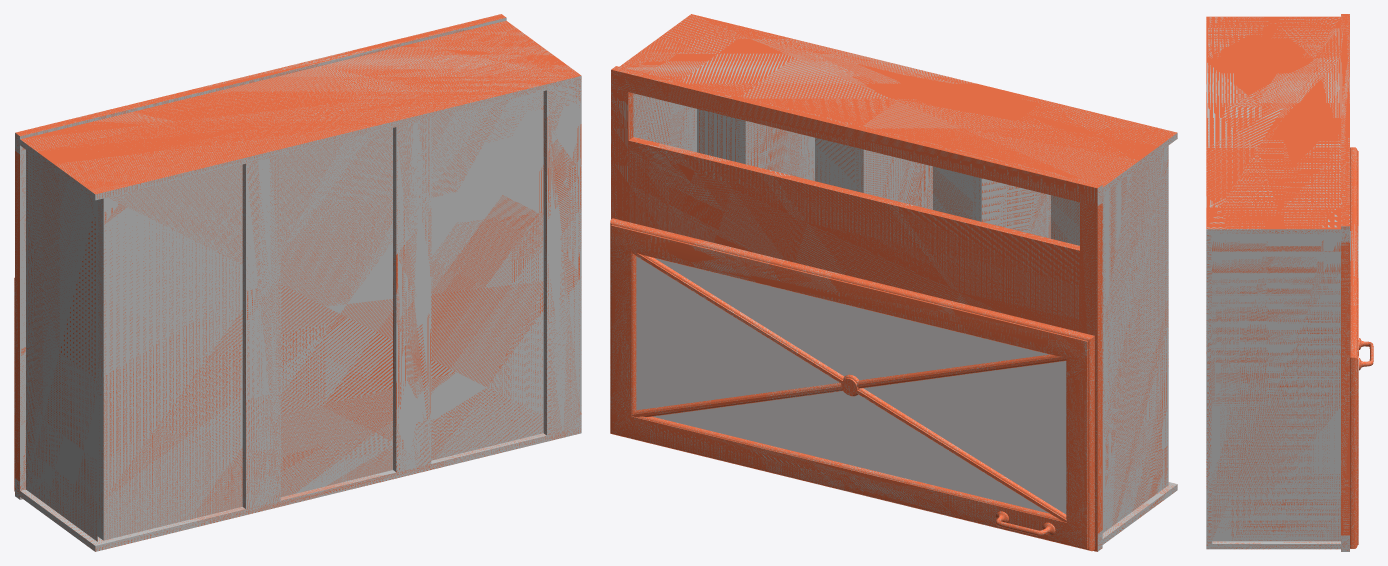
The picture shows the model from 3 angles, left to right: view 1: azimuth 30°, elevation 25°; view 2: azimuth 150°, elevation 25°; view 3: azimuth 270°, elevation 25°; orthographic projection. The views are drawn at different scales.
Visible parts, largest first — view 1: mesh6_mesh6-geometry, mesh3_mesh3-geometry, mesh8_mesh8-geometry, mesh1_mesh1-geometry, mesh7_mesh7-geometry, mesh9_mesh9-geometry, mesh4_mesh4-geometry, mesh2_mesh2-geometry; view 2: mesh48_mesh48-geometry, mesh11_mesh11-geometry, mesh8_mesh8-geometry, mesh1_mesh1-geometry, mesh20_mesh20-geometry, mesh9_mesh9-geometry, mesh19_mesh19-geometry, mesh12_mesh12-geometry, mesh4_mesh4-geometry, mesh5_mesh5-geometry, mesh46_mesh46-geometry, mesh47_mesh47-geometry (+7 smaller); view 3: mesh2_mesh2-geometry, mesh8_mesh8-geometry, mesh4_mesh4-geometry, mesh3_mesh3-geometry, mesh9_mesh9-geometry, mesh20_mesh20-geometry, mesh7_mesh7-geometry, mesh17_mesh17-geometry, mesh14_mesh14-geometry, mesh13_mesh13-geometry, mesh21_mesh21-geometry.
Boxes of the visible parts, x1,y1,x2,y2 form: mesh6_mesh6-geometry: (103, 91, 543, 540); mesh3_mesh3-geometry: (242, 82, 581, 508); mesh8_mesh8-geometry: (20, 20, 581, 200); mesh1_mesh1-geometry: (26, 150, 97, 541); mesh7_mesh7-geometry: (20, 427, 581, 551); mesh9_mesh9-geometry: (15, 14, 506, 154); mesh4_mesh4-geometry: (15, 151, 25, 481); mesh2_mesh2-geometry: (97, 198, 103, 540); mesh48_mesh48-geometry: (636, 256, 1066, 514); mesh11_mesh11-geometry: (628, 137, 1079, 331); mesh8_mesh8-geometry: (619, 14, 1177, 193); mesh1_mesh1-geometry: (633, 93, 1168, 532); mesh20_mesh20-geometry: (650, 228, 1052, 354); mesh9_mesh9-geometry: (611, 66, 1102, 206); mesh19_mesh19-geometry: (650, 417, 1050, 540); mesh12_mesh12-geometry: (737, 118, 1050, 238); mesh4_mesh4-geometry: (611, 88, 1102, 533); mesh5_mesh5-geometry: (697, 109, 1079, 245); mesh46_mesh46-geometry: (632, 252, 1066, 522); mesh47_mesh47-geometry: (632, 354, 1066, 417); mesh2_mesh2-geometry: (1212, 234, 1340, 541); mesh8_mesh8-geometry: (1206, 16, 1340, 234); mesh4_mesh4-geometry: (1341, 242, 1349, 535); mesh3_mesh3-geometry: (1206, 234, 1212, 543); mesh9_mesh9-geometry: (1341, 14, 1349, 242); mesh20_mesh20-geometry: (1350, 165, 1358, 341); mesh7_mesh7-geometry: (1206, 541, 1340, 549); mesh17_mesh17-geometry: (1350, 396, 1358, 509); mesh14_mesh14-geometry: (1350, 339, 1358, 396); mesh13_mesh13-geometry: (1350, 508, 1358, 548); mesh21_mesh21-geometry: (1359, 338, 1373, 370).
Size of the model in its own units: 0.7854 by 0.561 by 0.2618.
